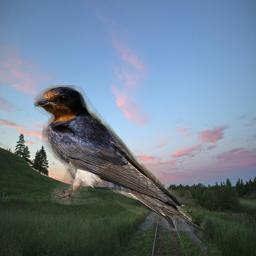Swallow: (34, 85, 209, 236)
